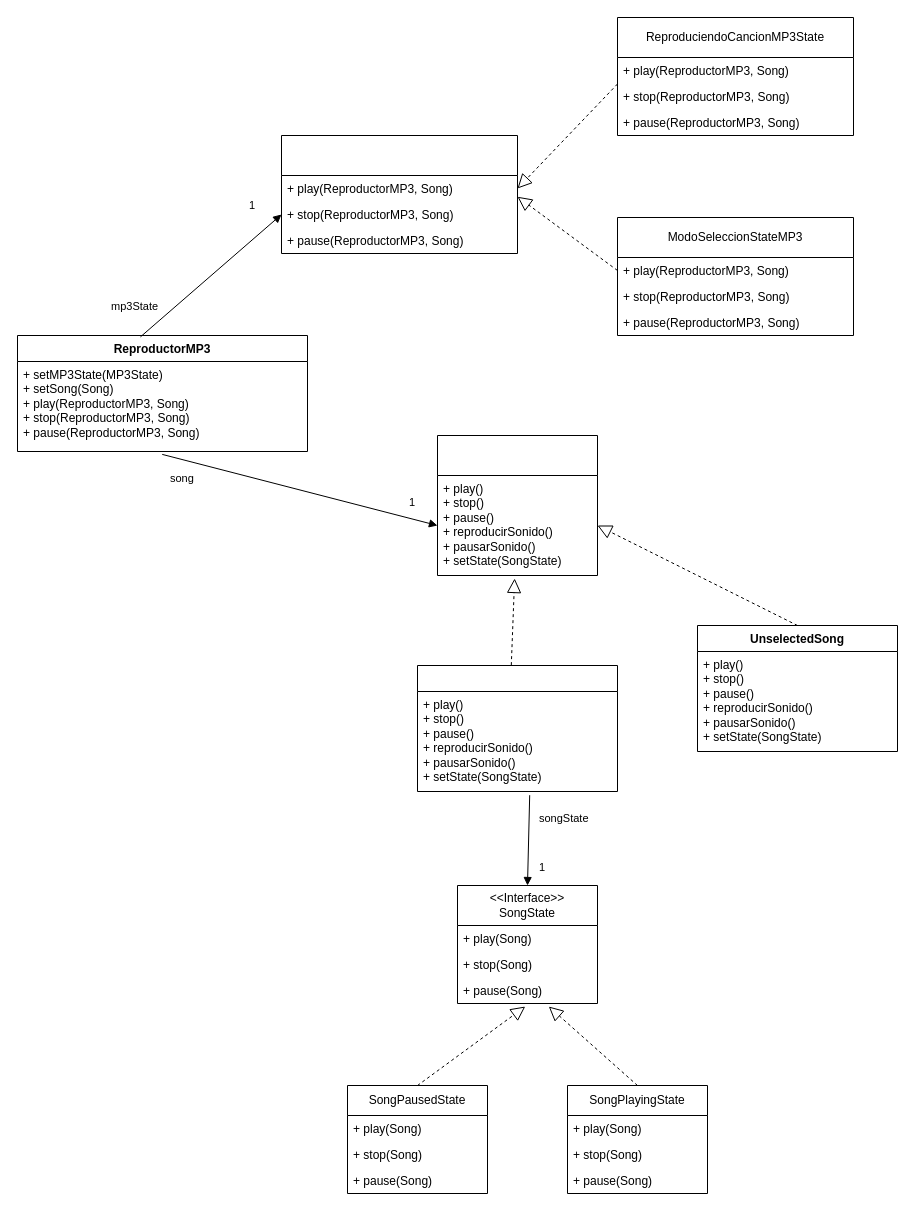
The diagram is 915 pixels wide and 1214 high, and some of its shapes have lost their labels. The box of each missing label's shape, as (x1, y1, x2, y2) in pixels:
<<Interface>> MP3State: (280, 134, 518, 254)
<<Interface>> Song: (436, 434, 598, 576)
SongImpl: (416, 664, 618, 792)
